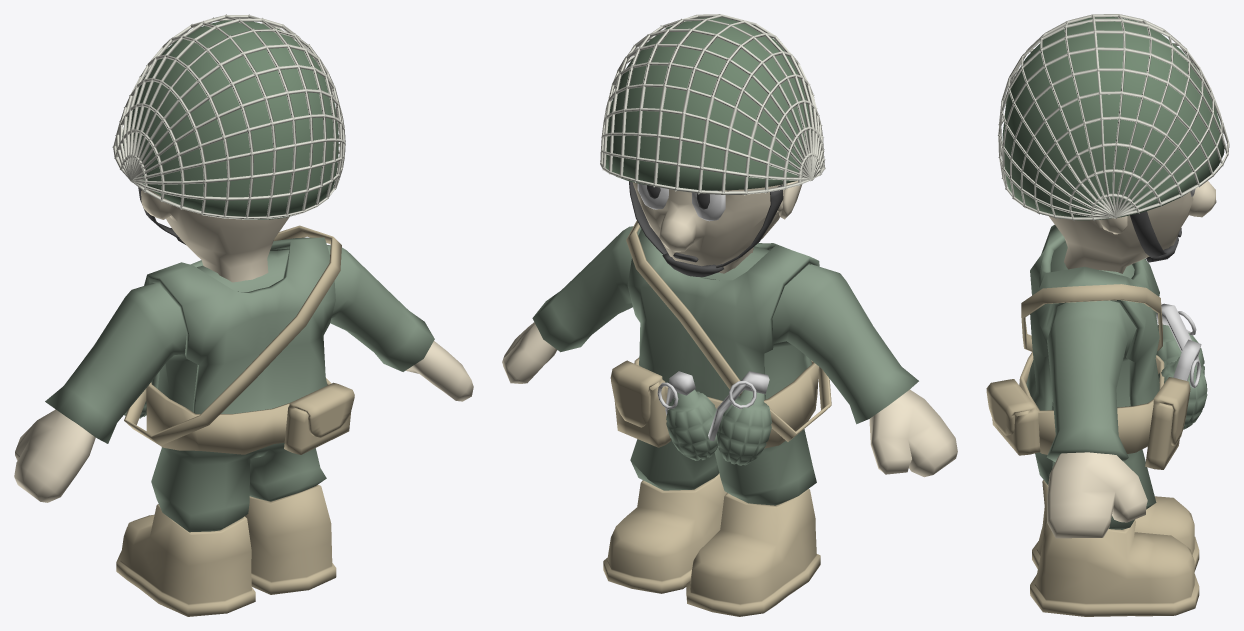
Rendered from soldier_american_net.fbx.
3 renders of one model, left to right at view 1: azimuth 30°, elevation 25°; view 2: azimuth 150°, elevation 25°; view 3: azimuth 270°, elevation 25°, orthographic. The views are drawn at different scales.
Parts seen in each view (by area): view 1: US_Soldier_Vest_Camo_; view 2: US_Soldier_Vest_Camo_; view 3: US_Soldier_Vest_Camo_.
Boxes of the visible parts, left/top/right/bottom form: US_Soldier_Vest_Camo_: left=14, top=14, right=473, bottom=616; US_Soldier_Vest_Camo_: left=502, top=14, right=957, bottom=616; US_Soldier_Vest_Camo_: left=986, top=14, right=1229, bottom=616.
Bounding box in the file's own units: 49.18 × 58.08 × 22.94.
